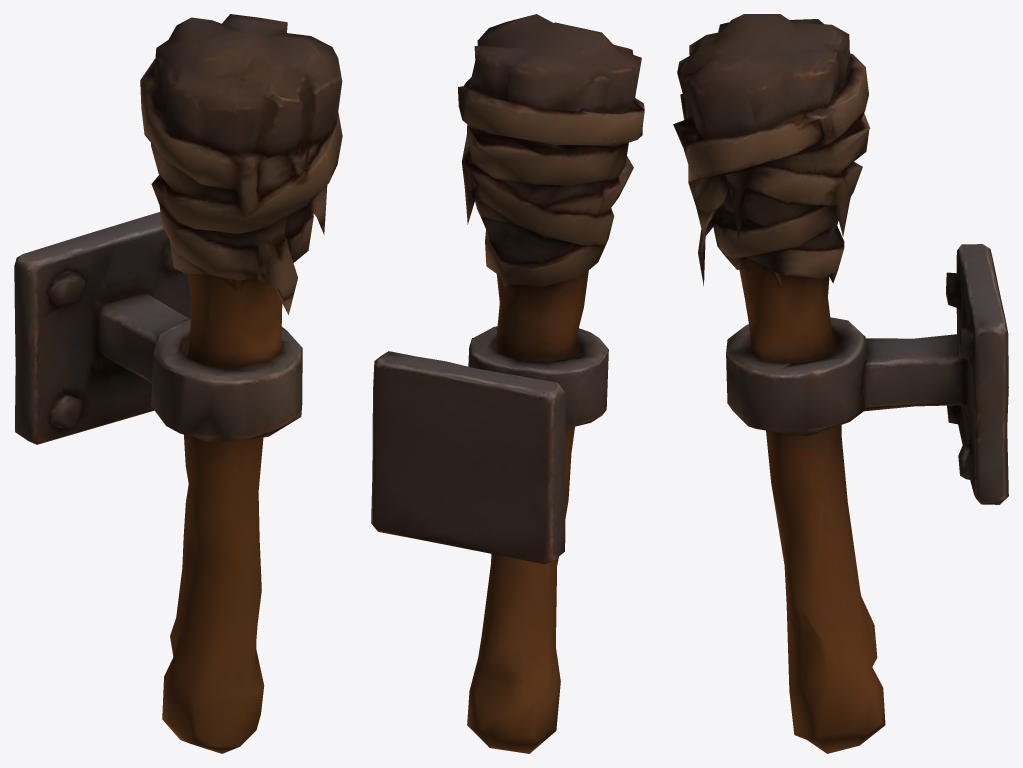
The model's file is model-prop-wall-torch-01.glb.
The picture shows the model from 3 angles, left to right: view 1: azimuth 30°, elevation 25°; view 2: azimuth 150°, elevation 25°; view 3: azimuth 270°, elevation 25°; orthographic projection. The views are drawn at different scales.
Visible parts, largest first — view 1: tripo_node_d0edce81-71a7-4bcd-8147-d9752a4120b6; view 2: tripo_node_d0edce81-71a7-4bcd-8147-d9752a4120b6; view 3: tripo_node_d0edce81-71a7-4bcd-8147-d9752a4120b6.
Boxes of the visible parts, bbox=[...] form: tripo_node_d0edce81-71a7-4bcd-8147-d9752a4120b6: bbox=[14, 14, 342, 753]; tripo_node_d0edce81-71a7-4bcd-8147-d9752a4120b6: bbox=[371, 14, 644, 753]; tripo_node_d0edce81-71a7-4bcd-8147-d9752a4120b6: bbox=[673, 14, 1008, 753].
Size of the model in its own units: 0.1419 by 0.5 by 0.2127.
Materials: 1 (1 with a texture image).
